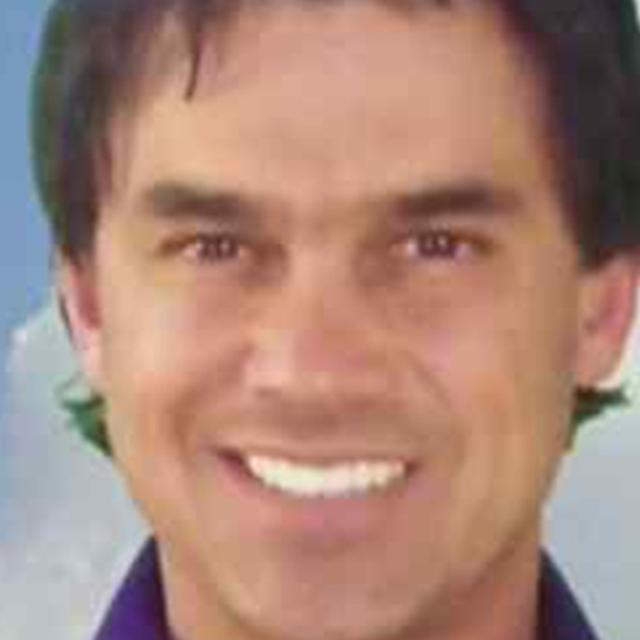Normal: (96, 2, 583, 639)
